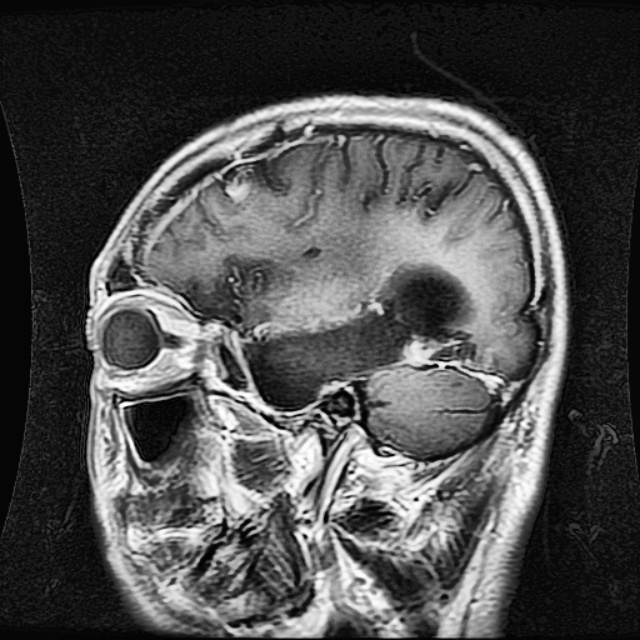Meningioma: (239, 265, 479, 412)
